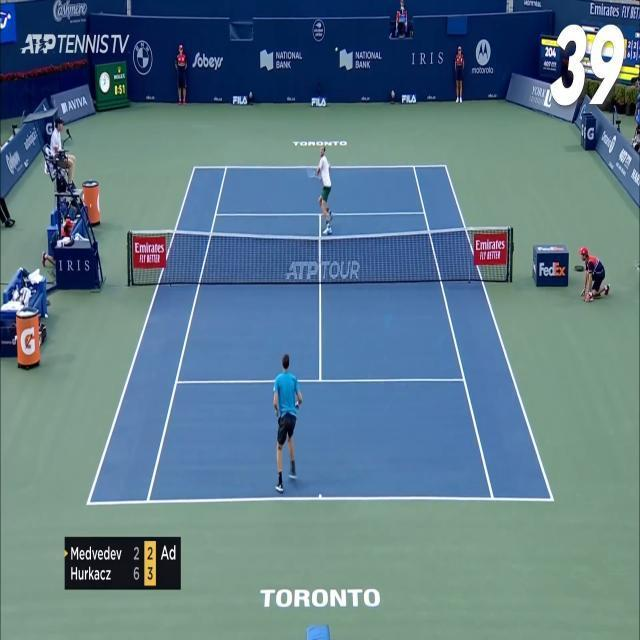court: (85, 162, 555, 504)
net: (126, 227, 514, 284)
player: (274, 354, 304, 494)
